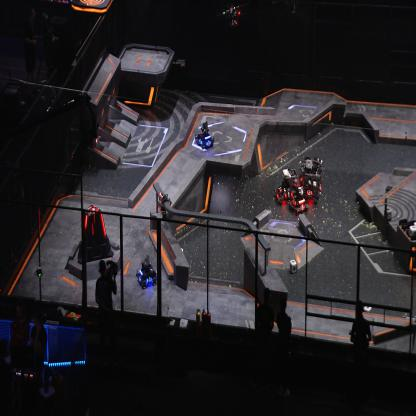car: (299, 155, 323, 205), (273, 166, 299, 205), (135, 254, 156, 289), (287, 184, 308, 216), (194, 120, 215, 150)
